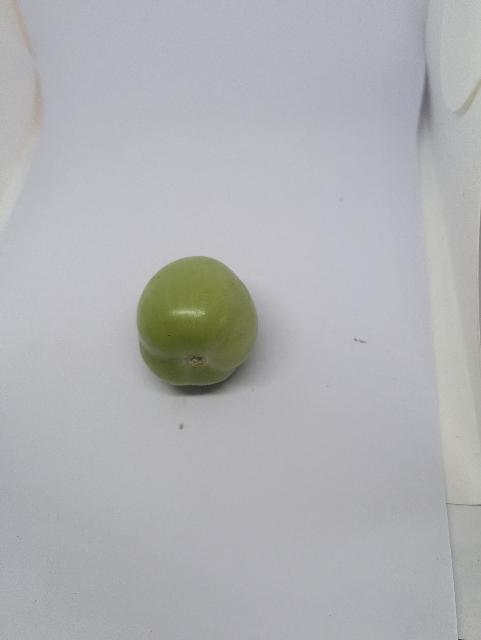green: (124, 250, 271, 405)
